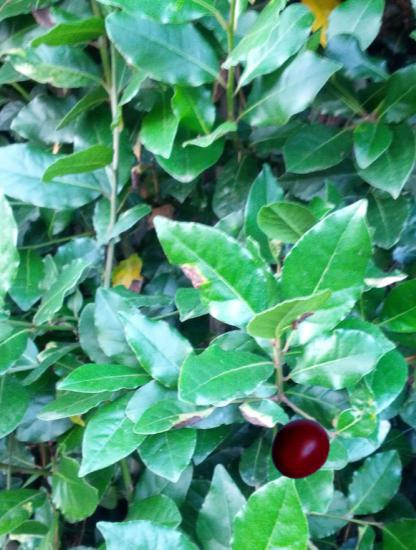Tamarillo: (266, 410, 339, 483)
